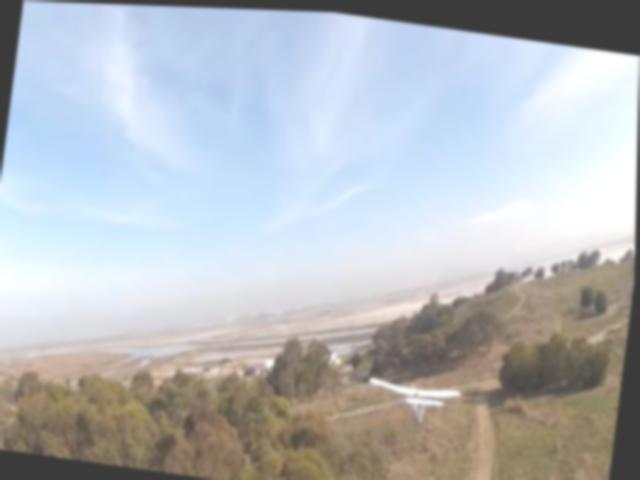uav: (361, 360, 470, 430)
